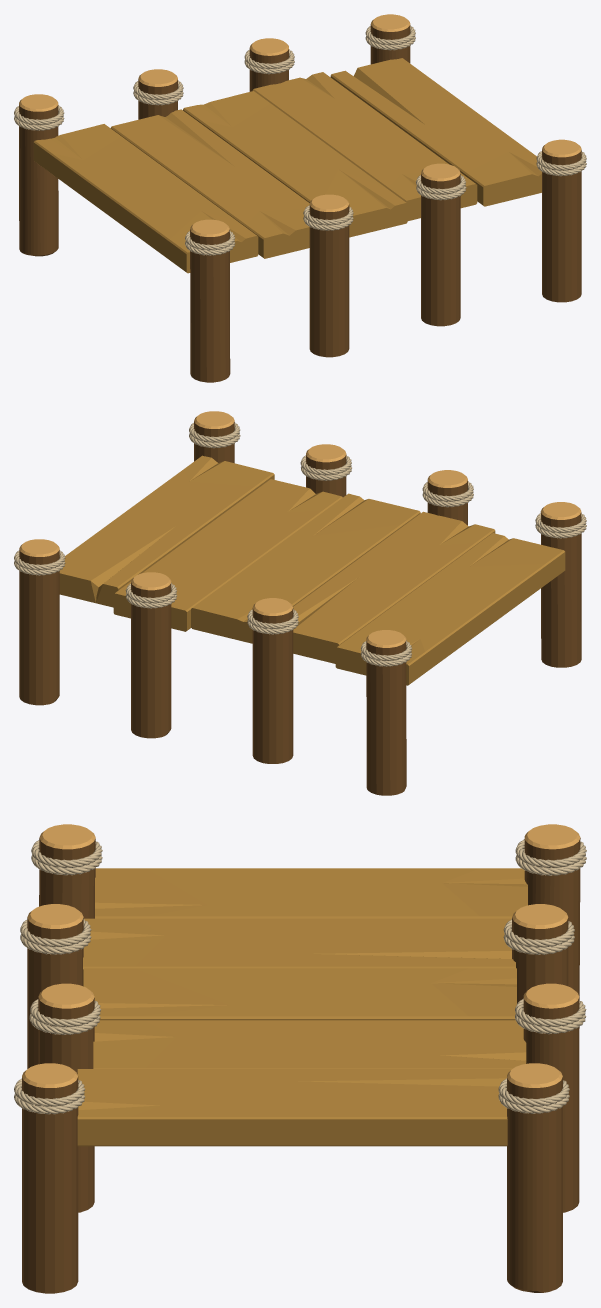
File: Matou.fbx
The picture shows the model from 3 angles, top to bottom: view 1: azimuth 30°, elevation 25°; view 2: azimuth 150°, elevation 25°; view 3: azimuth 270°, elevation 25°; orthographic projection. The views are drawn at different scales.
Visible parts, largest first — view 1: mugun, Cube.011, Cube.007, Cube.010, Cube.009, Cube.008; view 2: mugun, Cube.011, Cube.007, Cube.009, Cube.010, Cube.008; view 3: mugun, Cube.007, Cube.009, Cube.011, Cube.010, Cube.008, rope.005, rope.006, rope.004, rope.008, rope.003, rope.009 (+2 smaller).
Part boxes in pixels (x1,y1,x2,y2): mugun: (19,14,581,382); Cube.011: (33,124,258,273); Cube.007: (330,58,541,206); Cube.010: (110,109,309,258); Cube.009: (183,91,407,237); Cube.008: (252,72,477,220); mugun: (19,411,581,795); Cube.011: (335,533,565,685); Cube.007: (59,455,274,607); Cube.009: (191,493,420,643); Cube.010: (293,511,495,663); Cube.008: (113,479,342,631); mugun: (22,824,580,1293); Cube.007: (77,1069,510,1146); Cube.009: (84,968,516,1020); Cube.011: (95,868,527,918); Cube.010: (83,918,515,986); Cube.008: (93,1020,526,1069); rope.005: (31,840,102,868); rope.006: (515,839,586,868); rope.004: (20,919,91,947); rope.008: (515,998,586,1027); rope.003: (30,999,101,1027); rope.009: (498,1078,569,1106).
Bounding box in the file's own units: 294 × 106 × 265.
